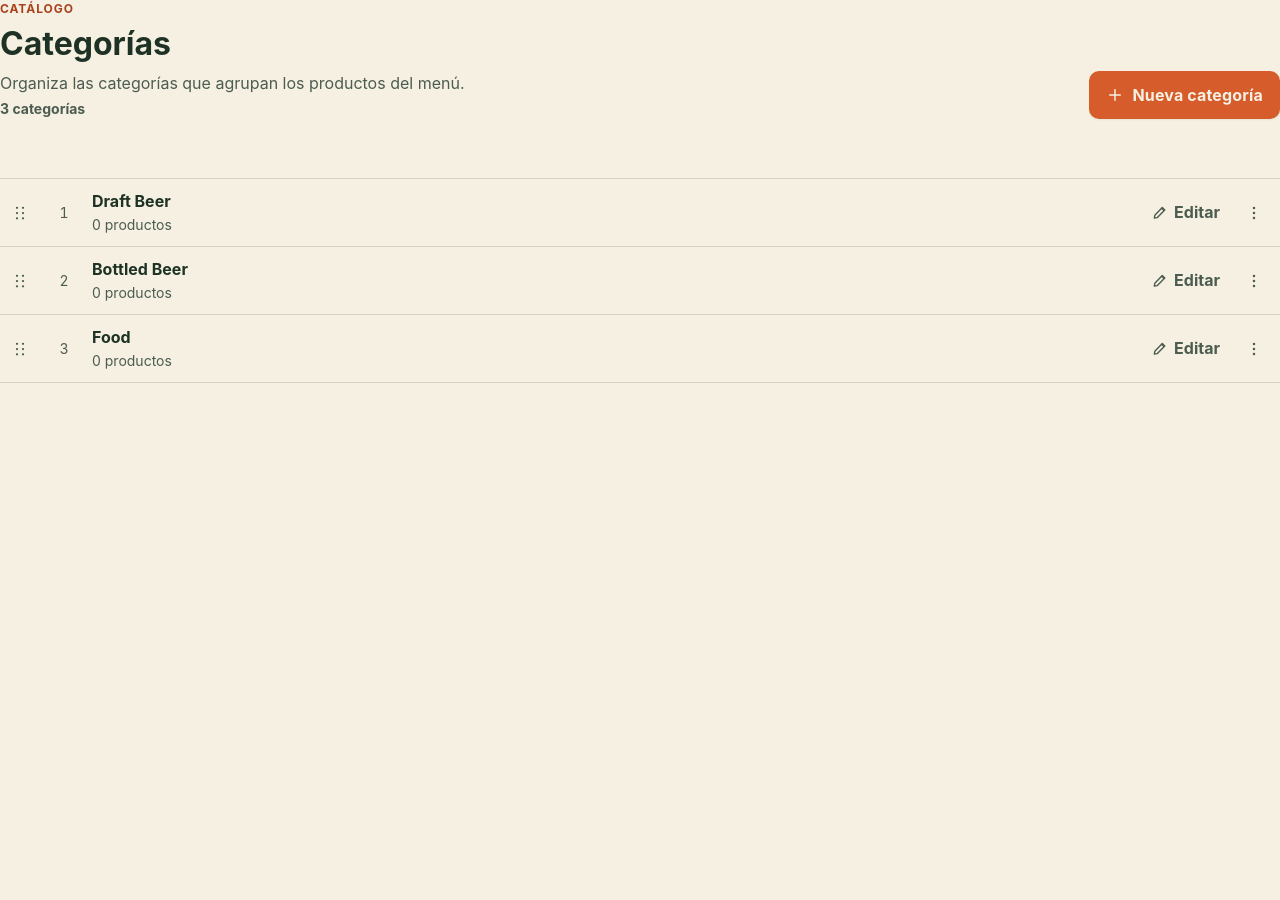
Scenario: CategoryManagementContainer › protects a category that contains products
Click the button named "Acciones para Draft Beer" at x=1254, y=213, box [1232,191,1276,235]
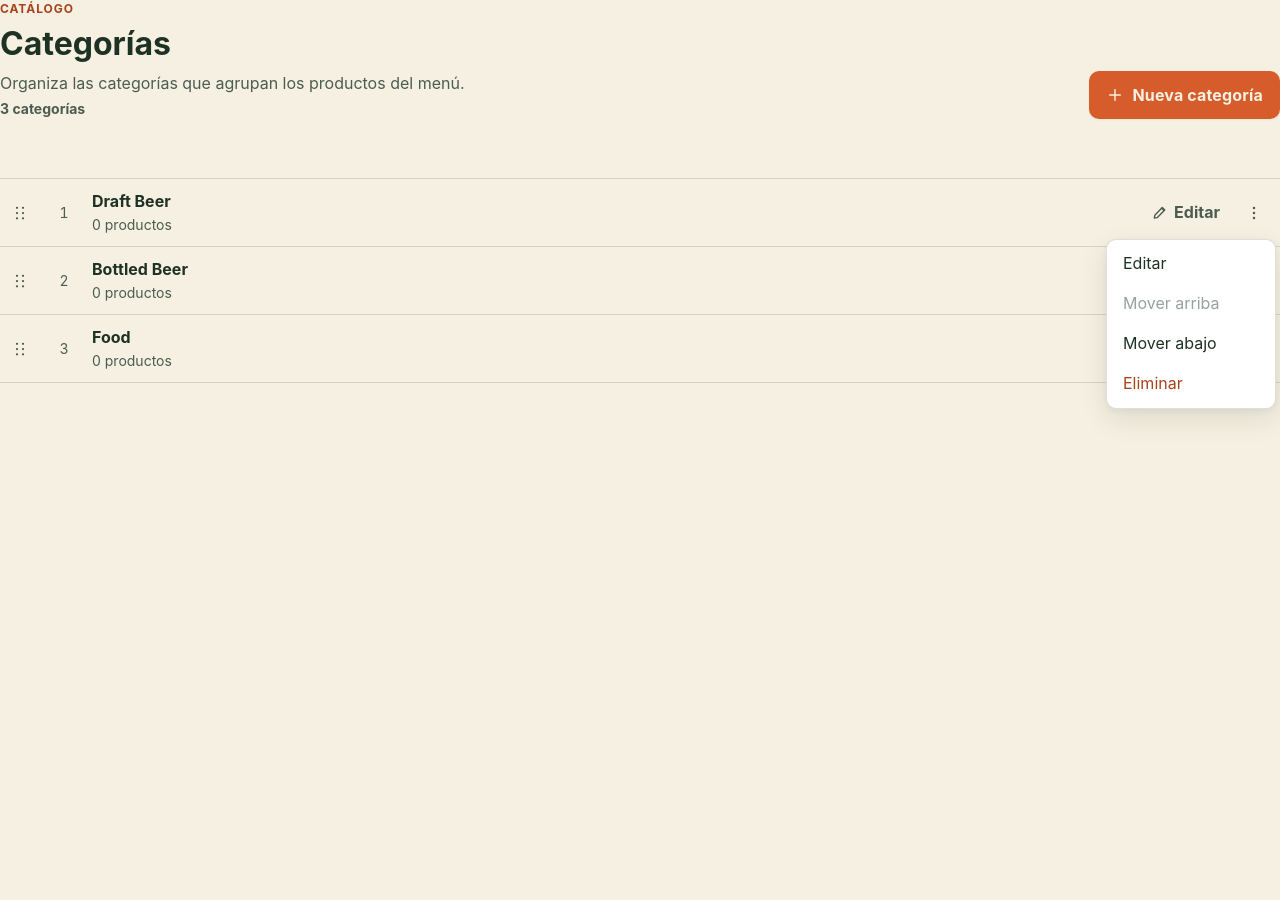
Click the menu item "Eliminar" at x=1191, y=384, box [1111,364,1271,404]
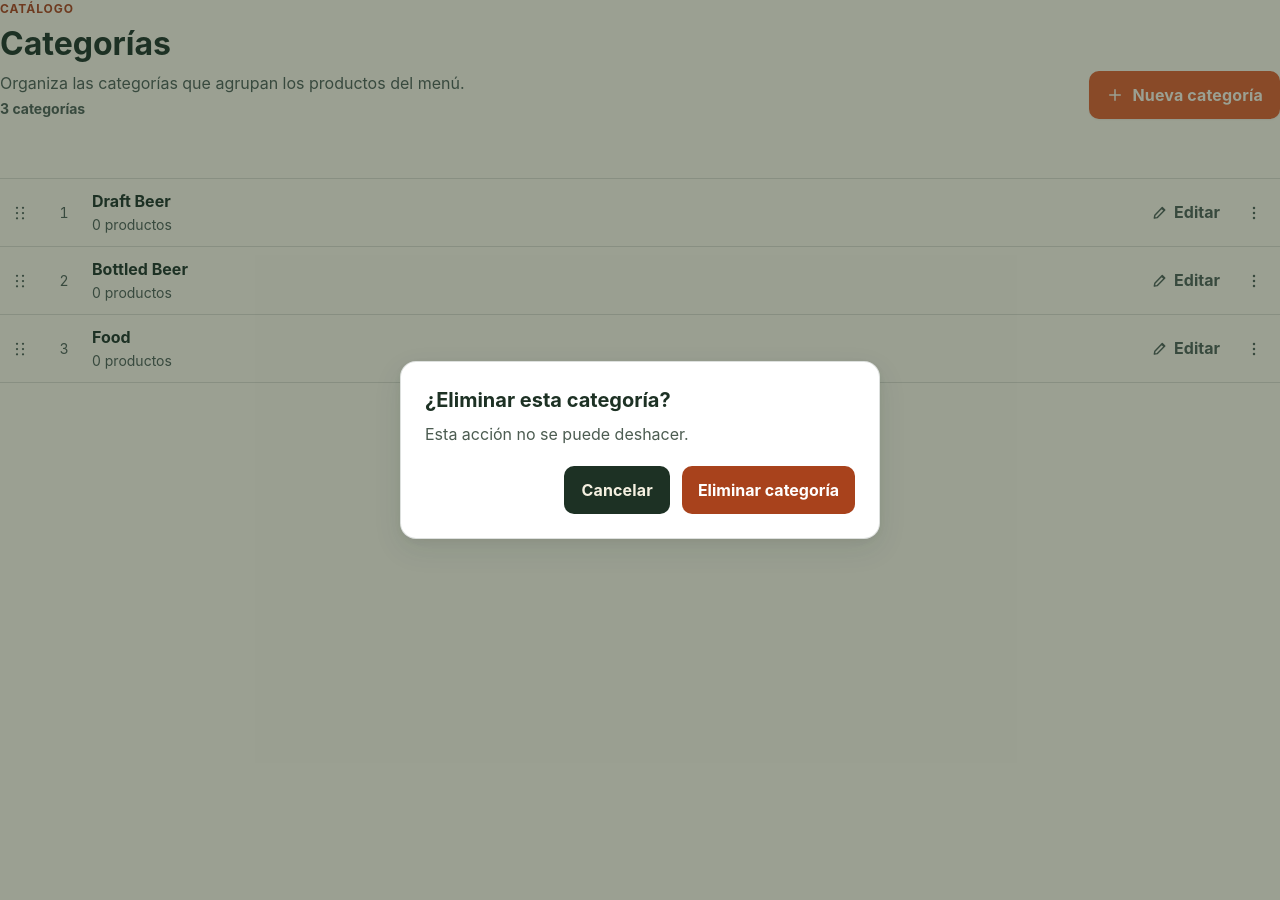
Check: the dialog "¿Eliminar esta categoría?" shows "Esta acción no se puede deshacer.", box [425,424,689,444]
Check: the button "Eliminar categoría" is shown, box [682,466,855,514]
